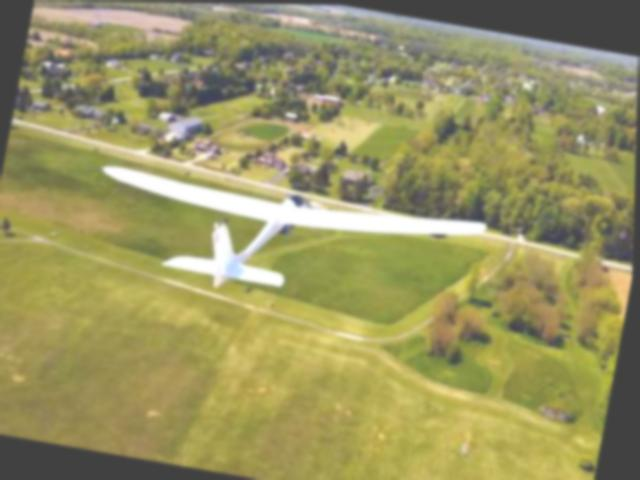uav: (79, 141, 503, 343)
